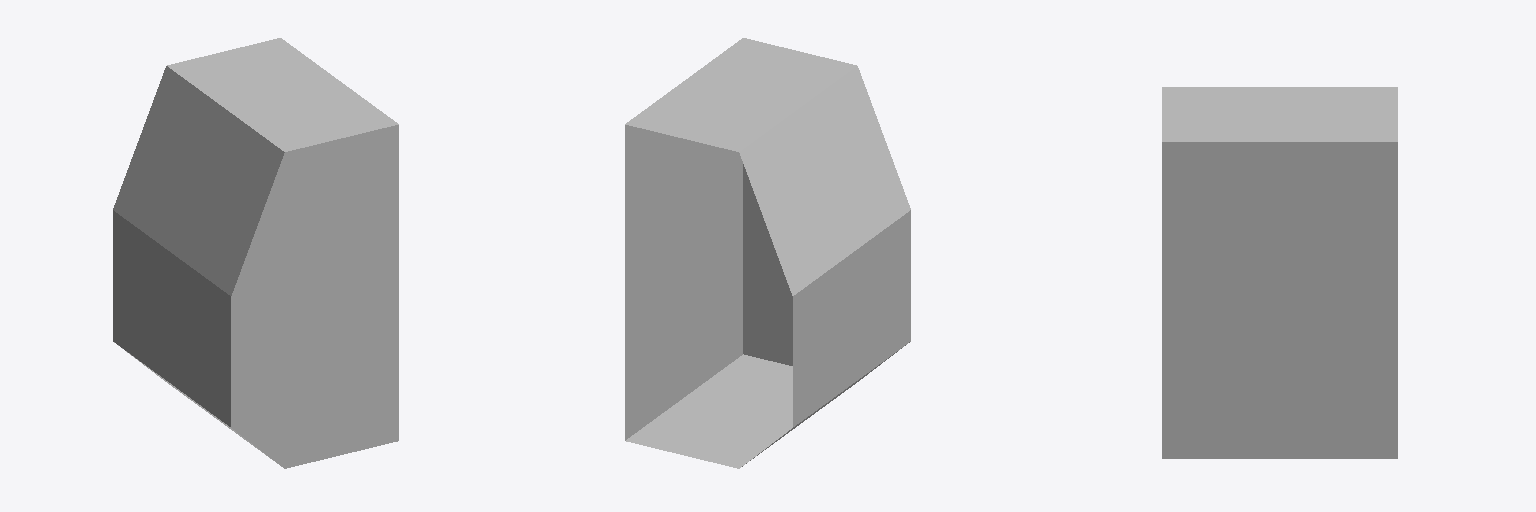
The model's file is building-41.obj.
3 views of the same model, side by side, from view 1: azimuth 30°, elevation 25°; view 2: azimuth 150°, elevation 25°; view 3: azimuth 270°, elevation 25° (orthographic).
Bounding box in the file's own units: 5.69 × 10.25 × 6.95.